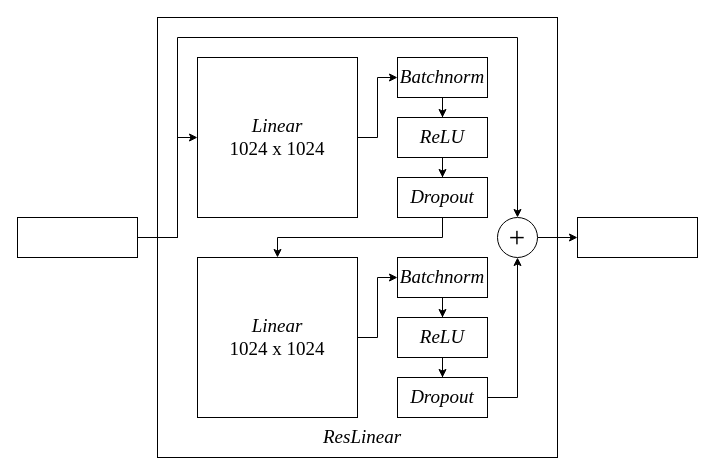
Some shapes in this 715 by 475 pixel diagram are drawn without their labels. The shapes that lost their labels are listed below. From the top down, each one's centre as x and y in pixels, then its label:
[77,237]: Input a x 1024
[637,237]: Output 1024 x b
